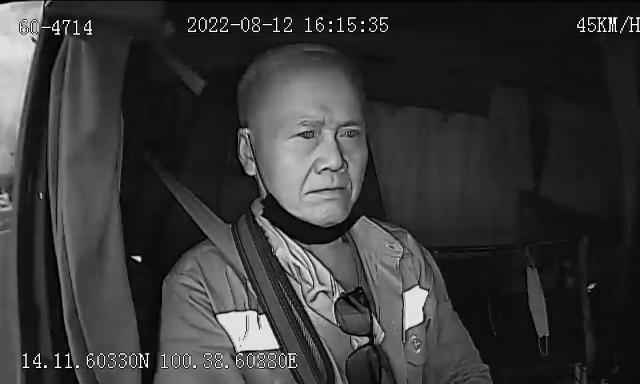SafeDriving: (285, 119, 323, 146), (332, 118, 368, 144)
Seatbelt: (154, 167, 358, 384)
